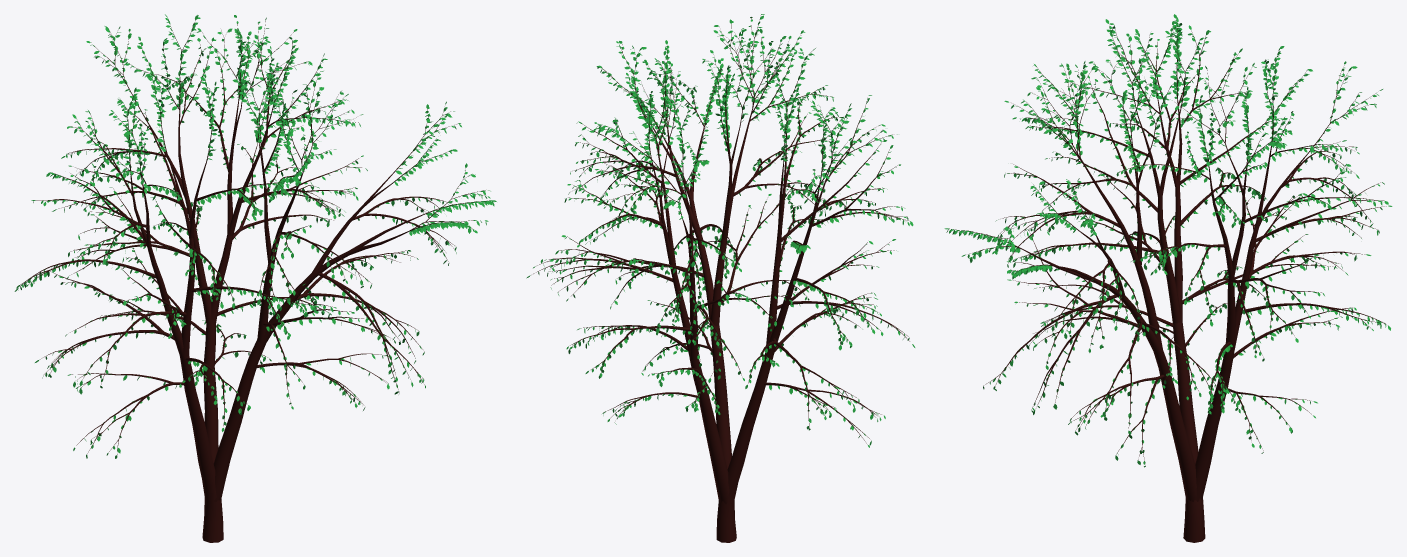
Rendered from 02tree.fbx.
3 views of the same model, side by side, from view 1: azimuth 30°, elevation 25°; view 2: azimuth 150°, elevation 25°; view 3: azimuth 270°, elevation 25° (orthographic). The views are drawn at different scales.
Visible parts, largest first — view 1: tree, leaves; view 2: tree, leaves; view 3: tree, leaves.
Boxes of the visible parts, x1,y1,x2,y2 form: tree: (17, 19, 489, 542); leaves: (14, 14, 496, 458); tree: (533, 17, 909, 542); leaves: (526, 14, 915, 447); tree: (949, 21, 1386, 542); leaves: (944, 14, 1392, 467).
Bounding box in the file's own units: 1278 × 1631 × 1323.
